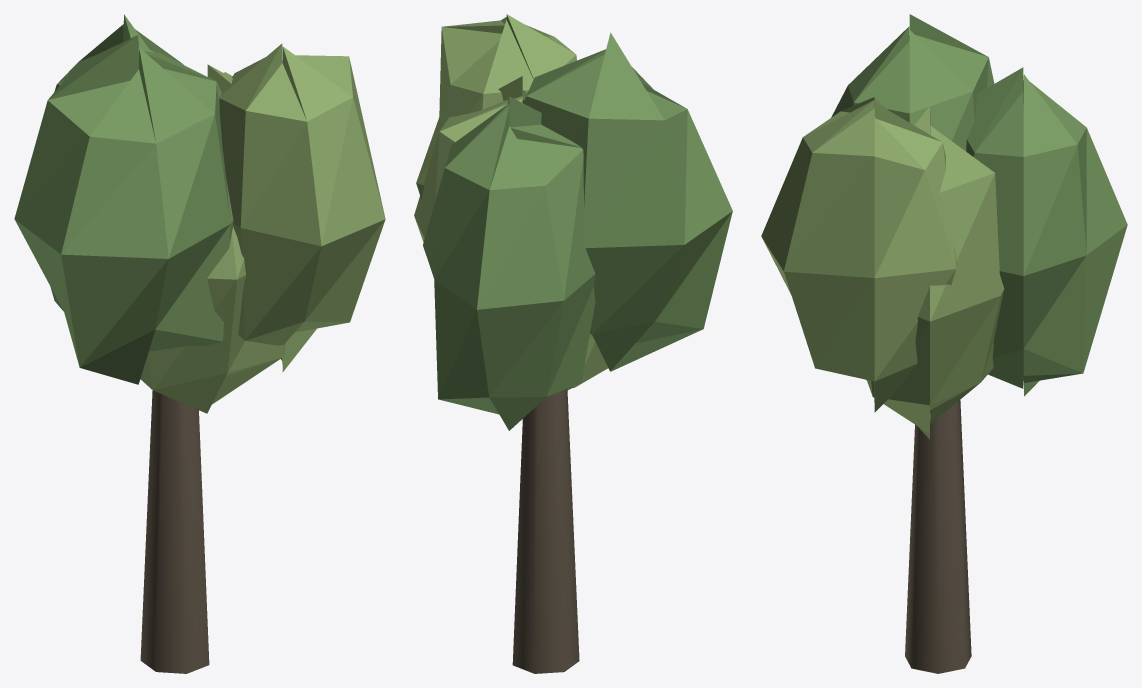
Rendered from ornamental_tree_variant_01_lod1.glb.
3 views of the same model, side by side, from view 1: azimuth 30°, elevation 25°; view 2: azimuth 150°, elevation 25°; view 3: azimuth 270°, elevation 25° (orthographic). The views are drawn at different scales.
Visible parts, largest first — view 1: static_leaf_oak, static_leaf_light, trunk; view 2: static_leaf_oak, trunk, static_leaf_light; view 3: static_leaf_light, static_leaf_oak, trunk.
Boxes of the visible parts, <box> form: static_leaf_oak: <box>14,14,233,384</box>; static_leaf_light: <box>140,43,385,413</box>; trunk: <box>140,390,209,673</box>; static_leaf_oak: <box>423,32,732,430</box>; trunk: <box>512,389,579,673</box>; static_leaf_light: <box>414,14,608,390</box>; static_leaf_light: <box>761,97,1004,439</box>; static_leaf_oak: <box>831,14,1127,396</box>; trunk: <box>905,400,971,673</box>.
Bounding box in the file's own units: 1.92 × 4.01 × 2.14.
